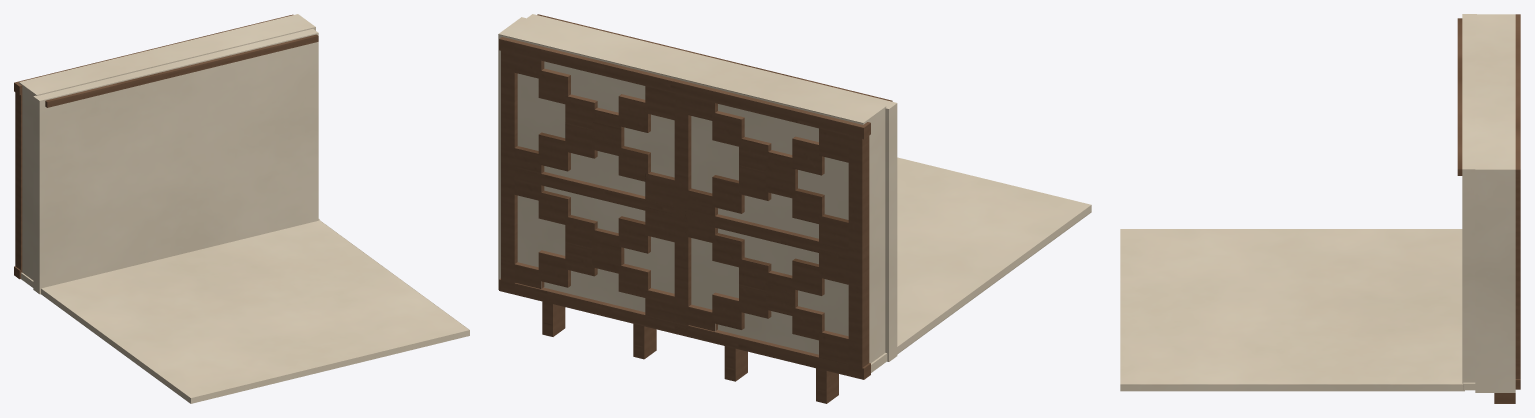
File: med_wall_jetty.glb
3 renders of one model, left to right at view 1: azimuth 30°, elevation 25°; view 2: azimuth 150°, elevation 25°; view 3: azimuth 270°, elevation 25°, orthographic. The views are drawn at different scales.
Visible parts, largest first — view 1: med_wall_jetty; view 2: med_wall_jetty; view 3: med_wall_jetty.
Boxes of the visible parts, <box> form: med_wall_jetty: <box>14,14,469,403</box>; med_wall_jetty: <box>498,14,1091,403</box>; med_wall_jetty: <box>1120,14,1520,403</box>.
Bounding box in the file's own units: 4.04 × 3.04 × 4.36.
Materials: 1 (1 with a texture image).
